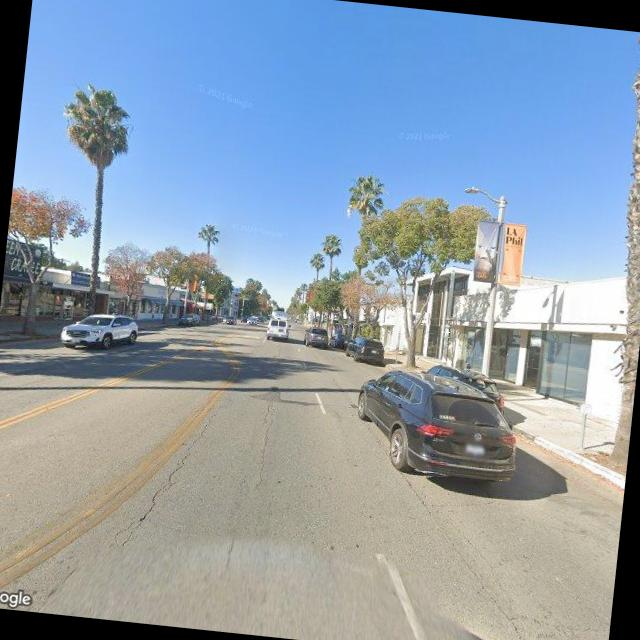pothole: (110, 399, 222, 552), (435, 529, 571, 640), (246, 374, 283, 489)
